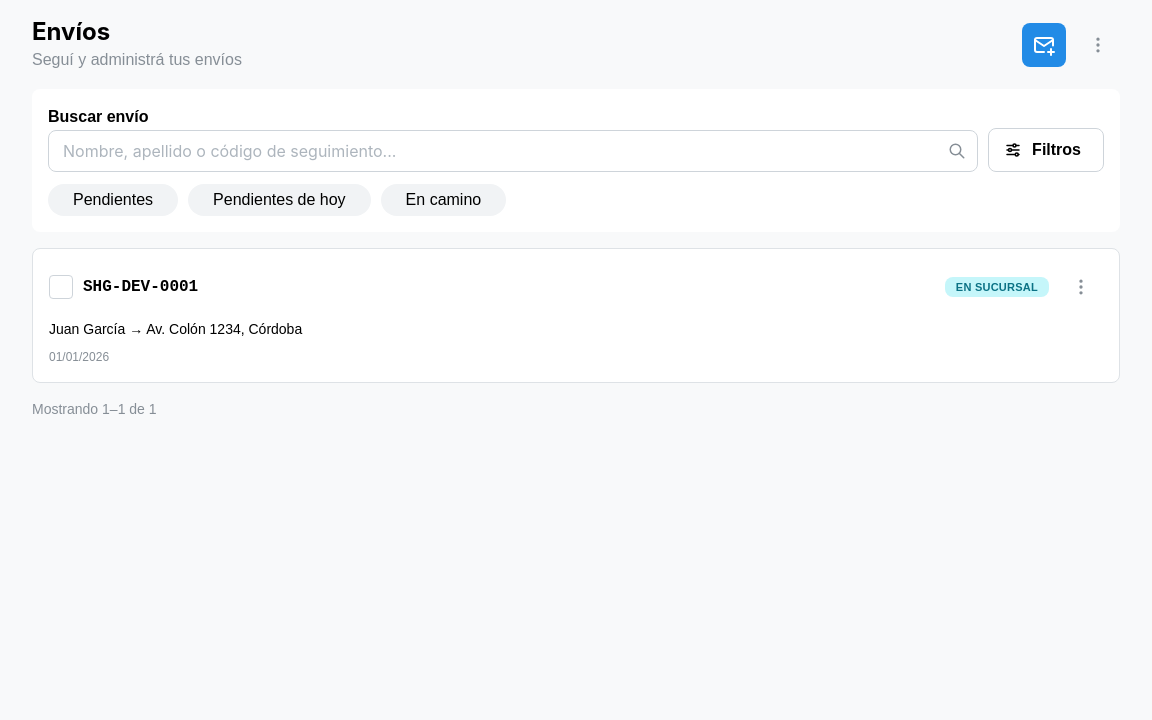
Test: ListaEnvios en mobile › seleccionar una tarjeta muestra el banner de selección
Step 1. Click the checkbox named "Seleccionar envío SHG-DEV-0001" → (61, 287), box [49,275,73,299]
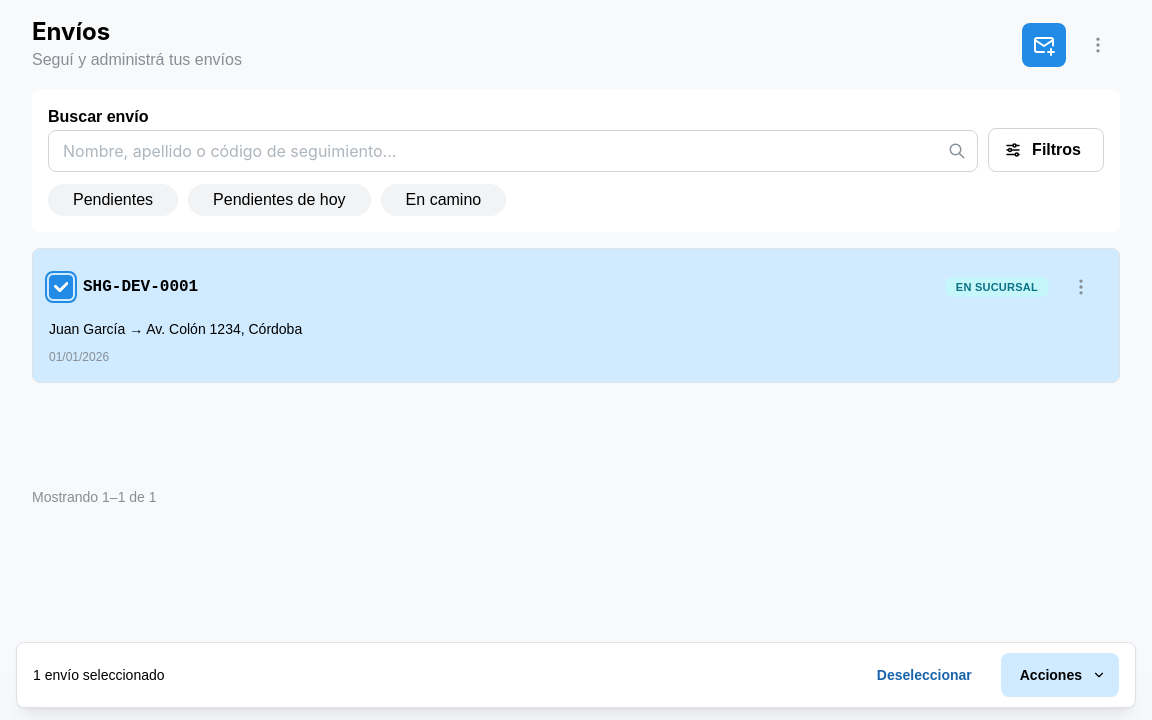
Now the text "1 envío seleccionado" is shown, box [33,665,164,685]
